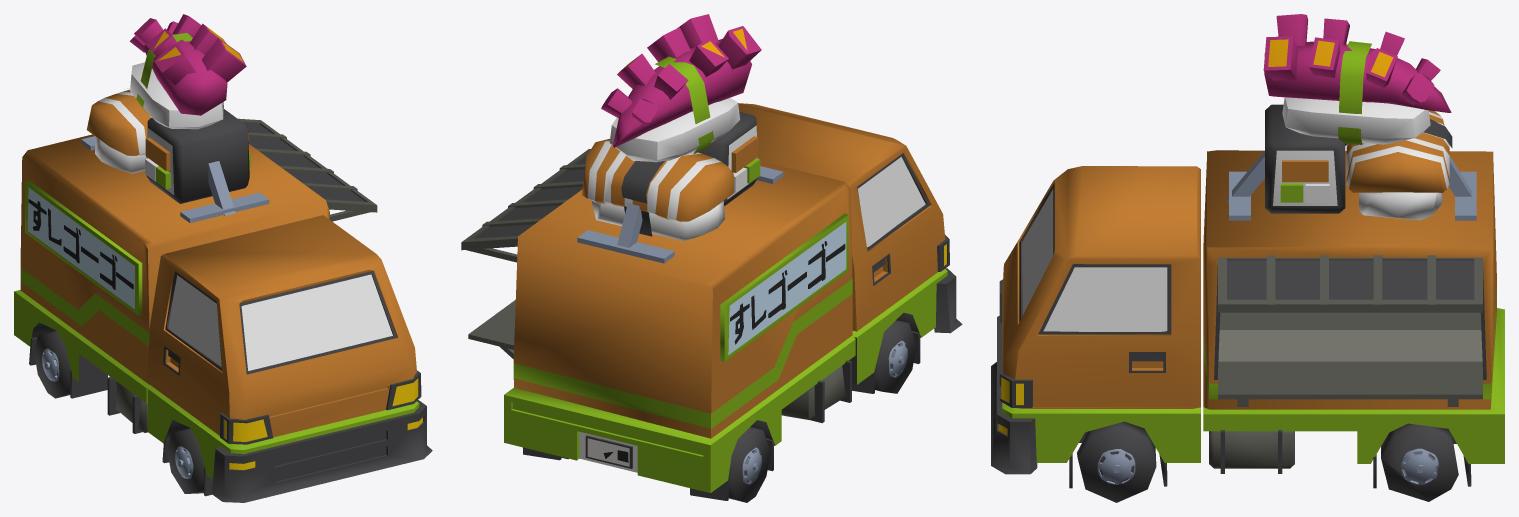
Rendered from food-truck.glb.
3 renders of one model, left to right at view 1: azimuth 30°, elevation 25°; view 2: azimuth 150°, elevation 25°; view 3: azimuth 270°, elevation 25°, orthographic. The views are drawn at different scales.
Parts seen in each view (by area): view 1: Truck; view 2: Truck; view 3: Truck.
Boxes of the visible parts, left/top/right/bottom form: Truck: left=14, top=14, right=432, bottom=502; Truck: left=461, top=14, right=962, bottom=502; Truck: left=991, top=14, right=1504, bottom=502.
Bounding box in the file's own units: 5.1 × 7.28 × 7.98.
Materials: 3 (1 with a texture image).
